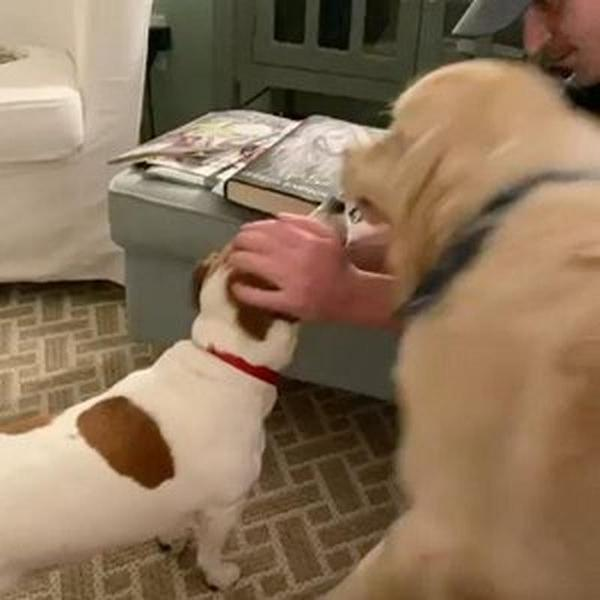allqu: (343, 52, 600, 598)
